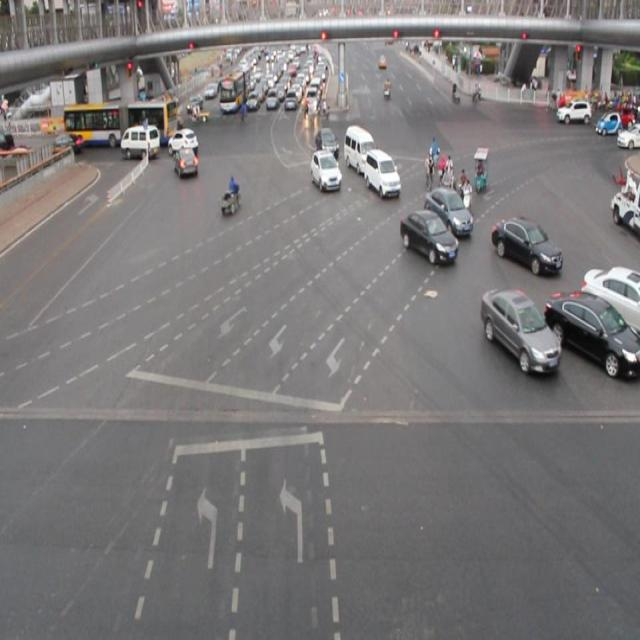car: (543, 290, 640, 377), (478, 287, 558, 371), (489, 216, 561, 273), (580, 264, 640, 331), (399, 208, 456, 264), (423, 186, 472, 236), (363, 149, 398, 195), (309, 149, 341, 191), (166, 128, 198, 158), (173, 143, 198, 178), (314, 128, 339, 160)
truck: (343, 125, 376, 174), (120, 124, 159, 160)
